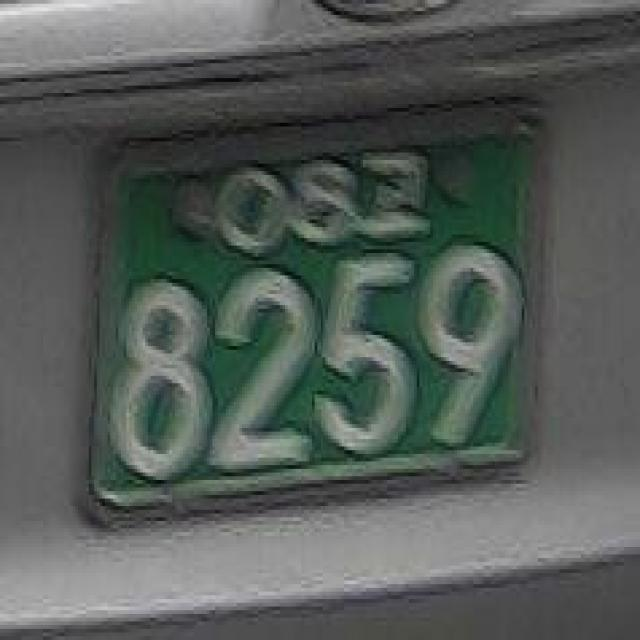illegal_plate: (75, 116, 558, 538)
